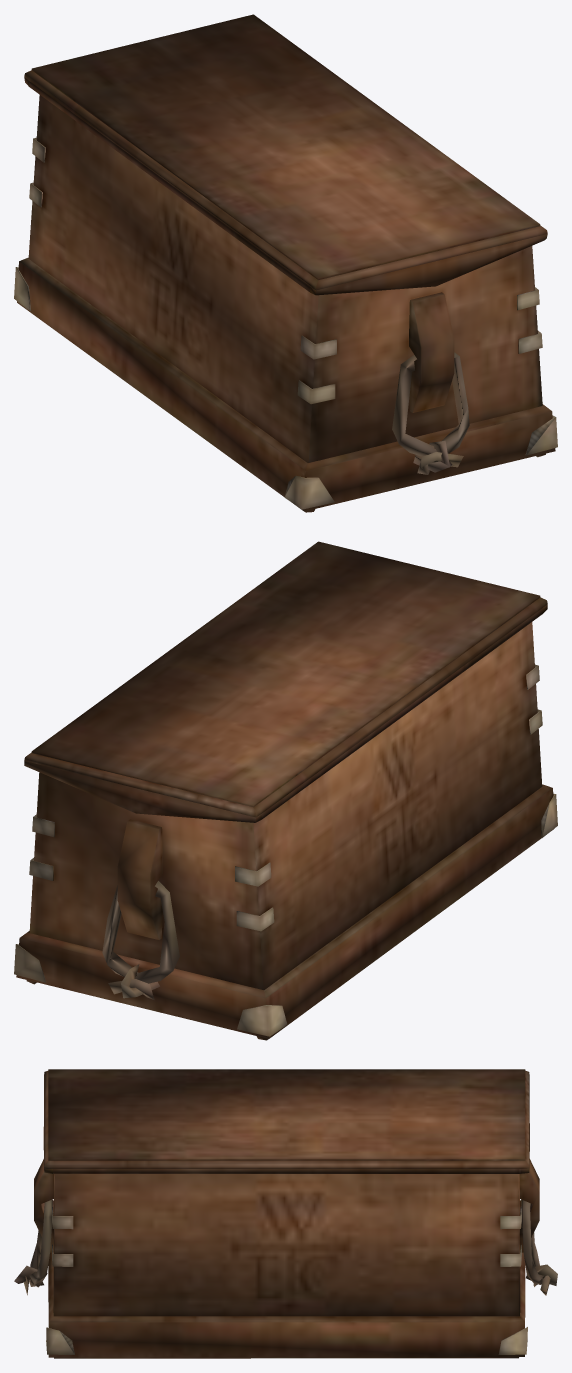
Rendered from wooden_crate_02.glb.
The picture shows the model from 3 angles, top to bottom: view 1: azimuth 30°, elevation 25°; view 2: azimuth 150°, elevation 25°; view 3: azimuth 270°, elevation 25°; orthographic projection. The views are drawn at different scales.
Visible parts, largest first — view 1: wooden_crate_02_crate, wooden_crate_02_lid; view 2: wooden_crate_02_crate, wooden_crate_02_lid; view 3: wooden_crate_02_crate, wooden_crate_02_lid.
Part boxes in pixels (box(x1,y1,x2,y2)): wooden_crate_02_crate: box(14, 95, 557, 512); wooden_crate_02_lid: box(24, 14, 547, 295); wooden_crate_02_crate: box(14, 622, 557, 1040); wooden_crate_02_lid: box(24, 541, 547, 822); wooden_crate_02_crate: box(14, 1159, 557, 1358); wooden_crate_02_lid: box(43, 1069, 529, 1173).
Bounding box in the file's own units: 0.5291 × 0.4628 × 1.16.
1 material, 1 textured.
